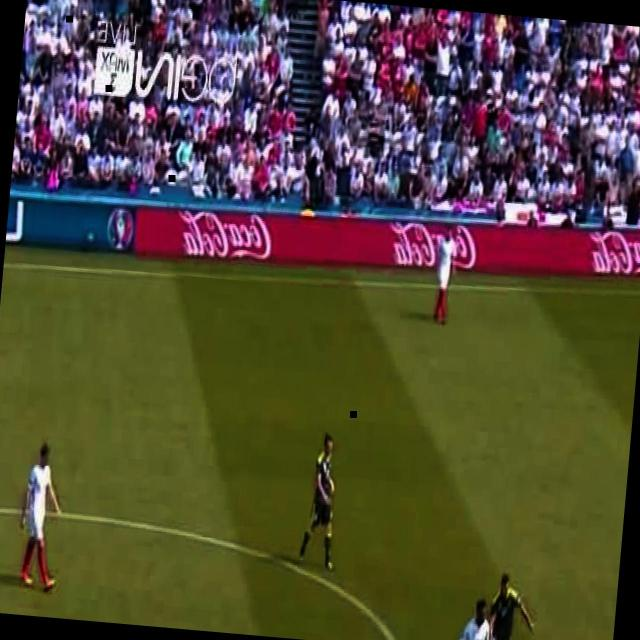player-white: (16, 443, 67, 591), (298, 432, 344, 574), (481, 569, 538, 640), (433, 228, 459, 323), (452, 595, 493, 640)
